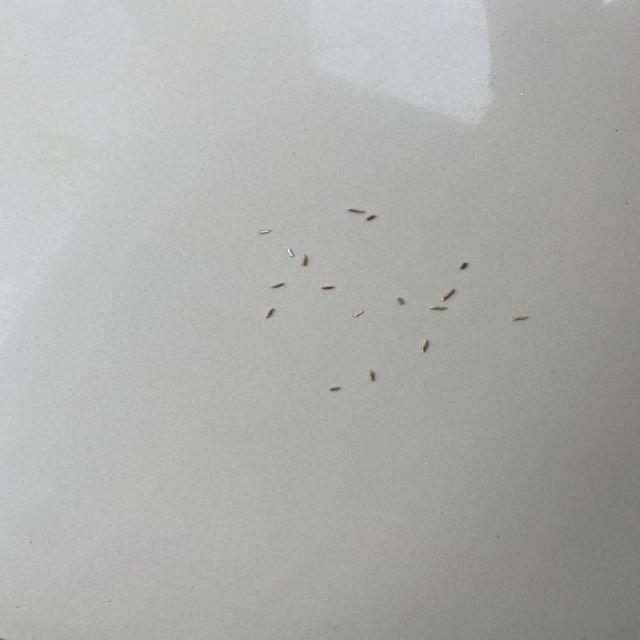Wereng: (439, 287, 460, 305), (344, 204, 370, 217), (423, 300, 448, 313), (419, 334, 433, 357), (510, 312, 534, 325), (364, 367, 382, 384), (298, 251, 314, 270), (267, 278, 290, 291), (254, 225, 278, 237), (260, 306, 280, 320), (317, 281, 338, 294), (348, 308, 369, 321), (392, 293, 408, 308), (282, 246, 298, 260), (457, 258, 473, 272), (363, 210, 380, 223), (327, 383, 344, 395)
